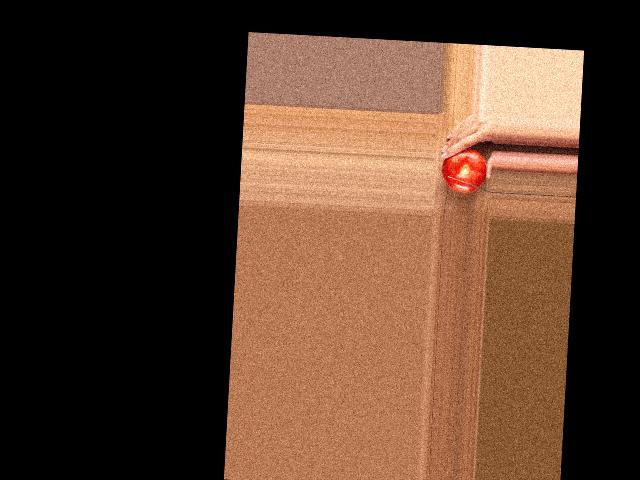tomato: (441, 146, 487, 193)
